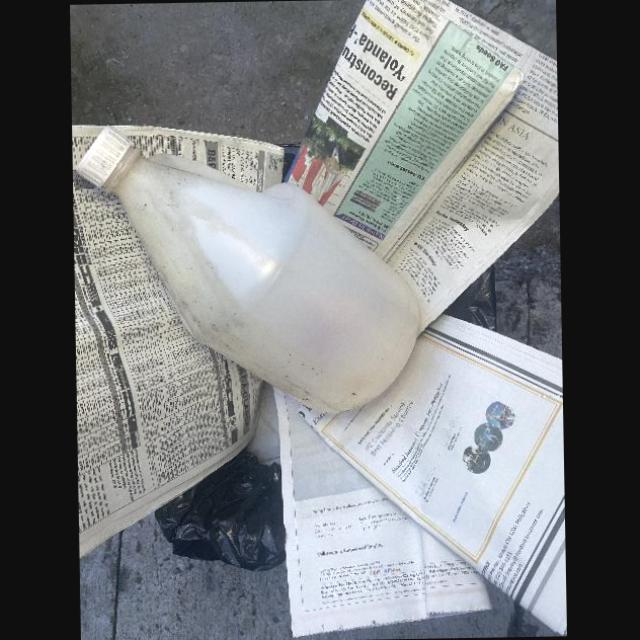giay: (285, 0, 559, 328), (294, 313, 566, 636), (71, 121, 261, 558), (270, 383, 492, 638), (110, 122, 284, 190)
hop_nhua: (76, 126, 420, 412)
